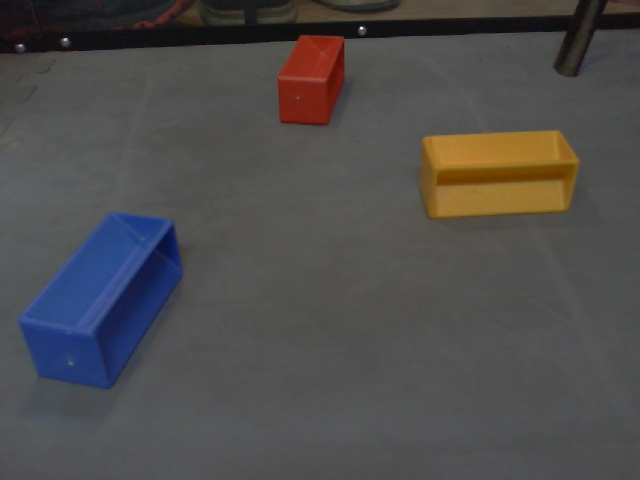BlueSample: (19, 211, 187, 390)
RedSample: (275, 34, 345, 126)
YellowSample: (417, 129, 581, 222)
